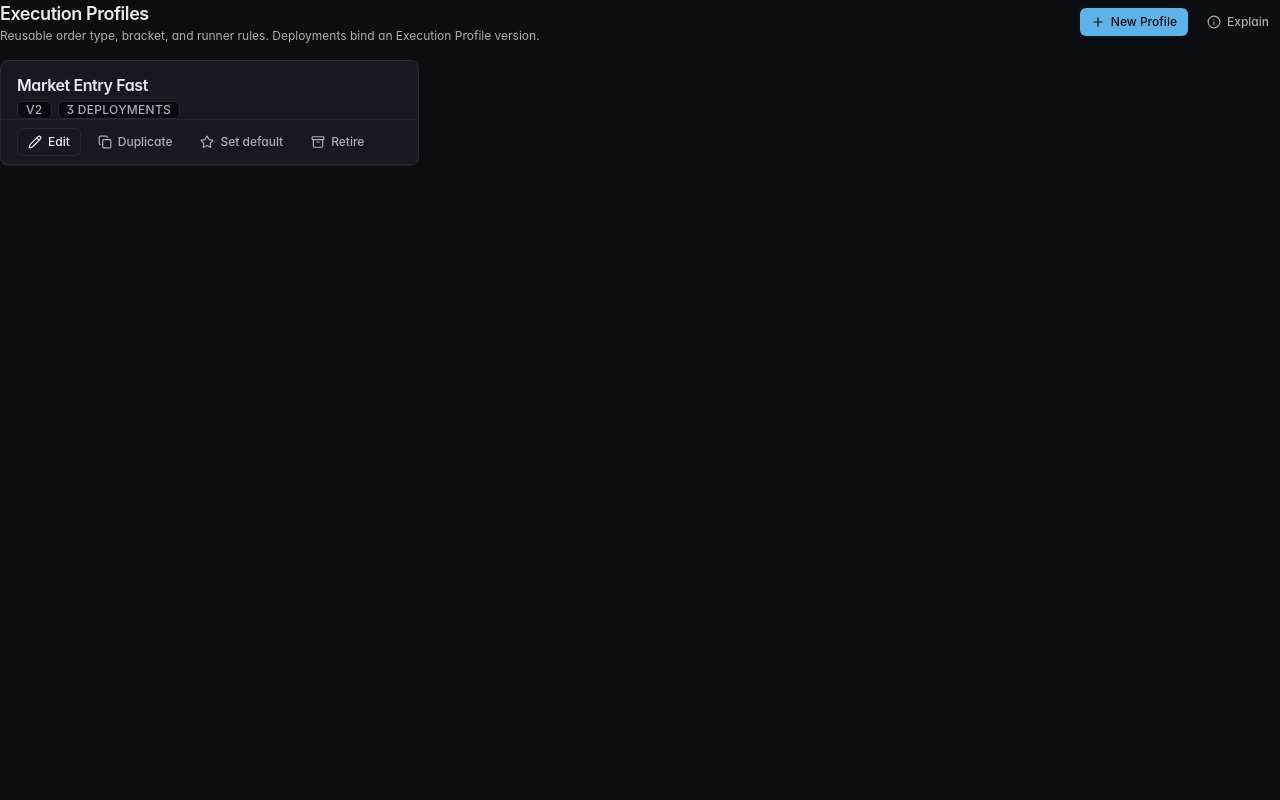
Test case: <ExecutionPlans /> › opens retire confirm dialog
This screenshot has width=1280, height=800.
Expected: the text "Market Entry Fast" is shown, [17, 75, 148, 95]
Click the button "Retire" at (338, 142), box [300, 128, 375, 156]
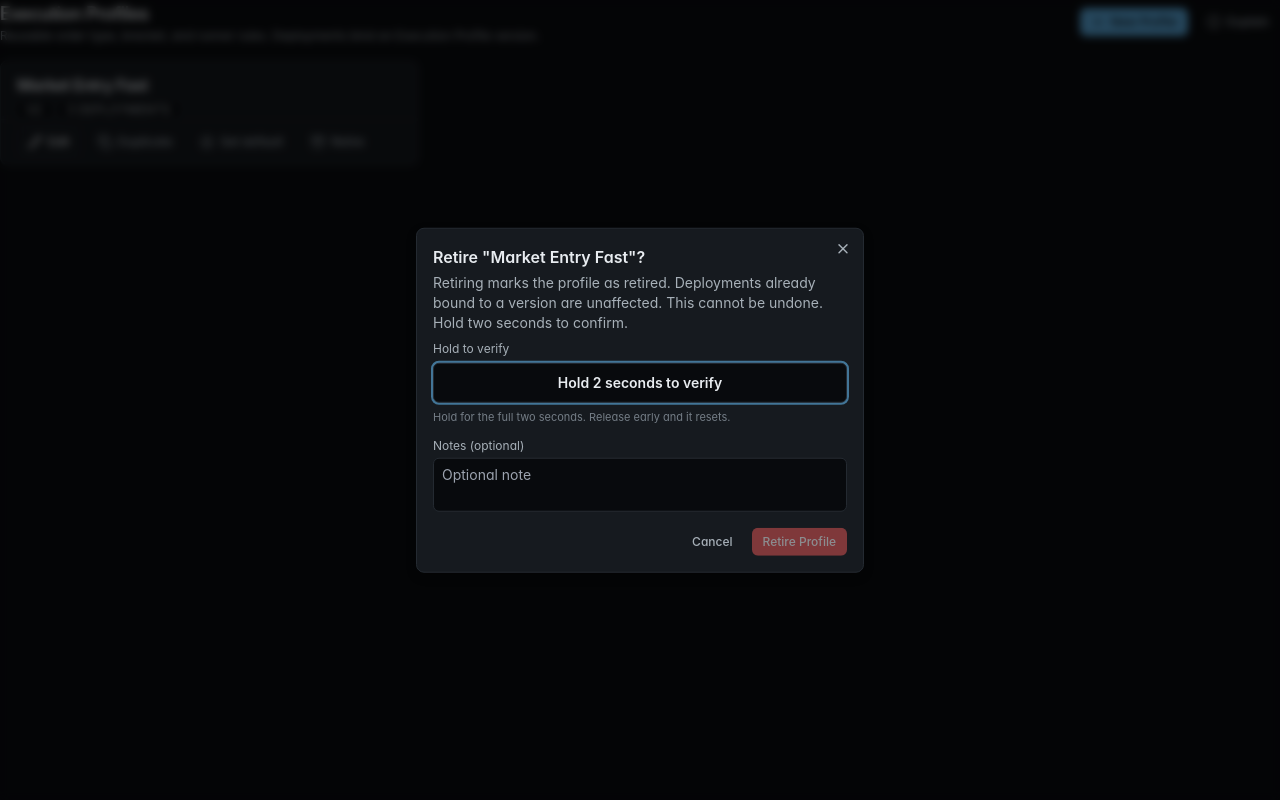
Now the heading "Retire \"Market Entry Fast\"?" is shown, box [433, 247, 645, 267]
